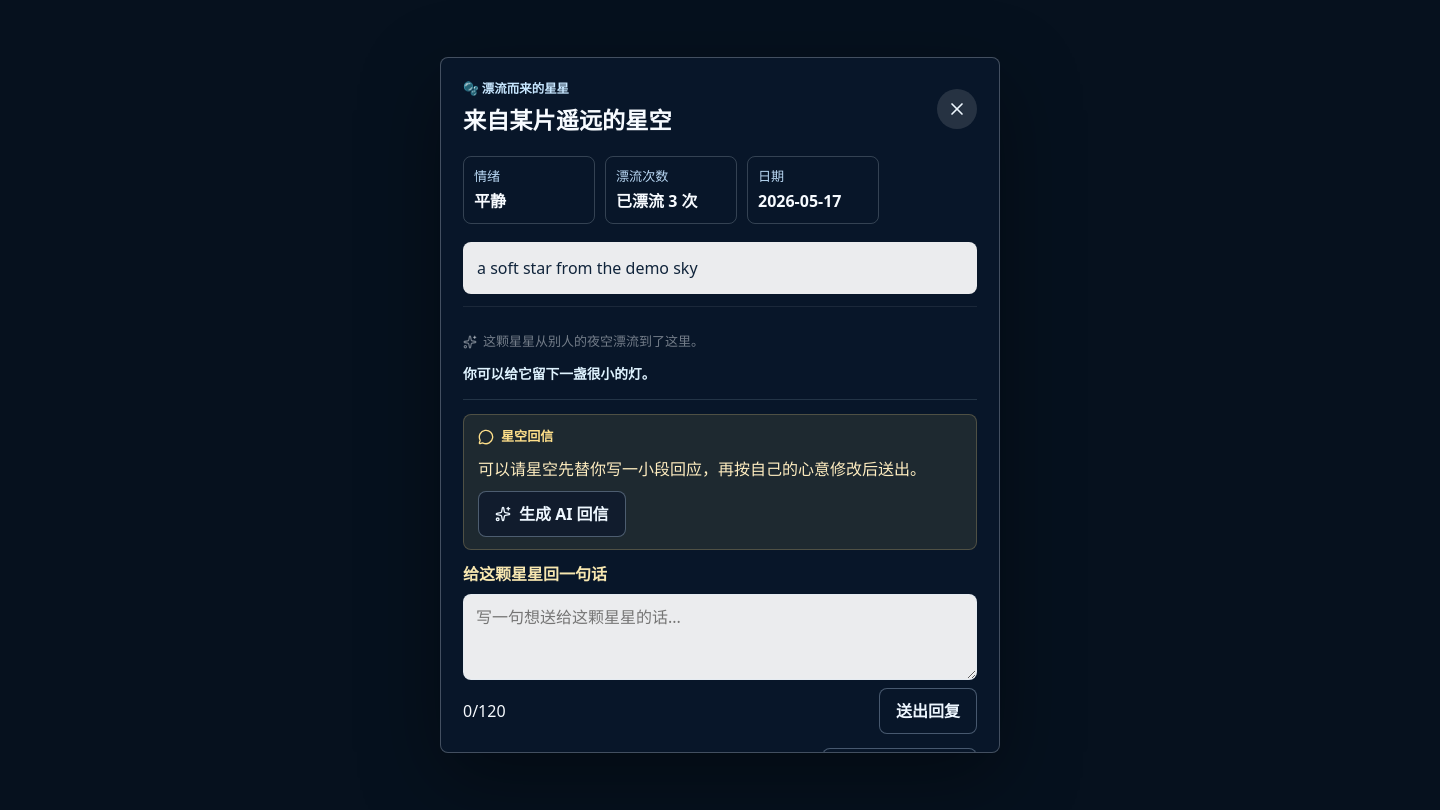
Test: drift star identity and replies › receivedDrift stars keep distant-source copy and allow local demo replies
The image size is (1440, 810).
Expected: the element with class "drift-source-receivedDrift" is shown, [463,332,704,350]
Expected: the text "你可以给它留下一盏很小的灯。" is shown, [463,364,656,383]
Type "May this little light keep you company." into the text box labelled "给这颗星星回一句话".
click(720, 637); type("May this little light keep you company.")  # box [463,594,977,680]
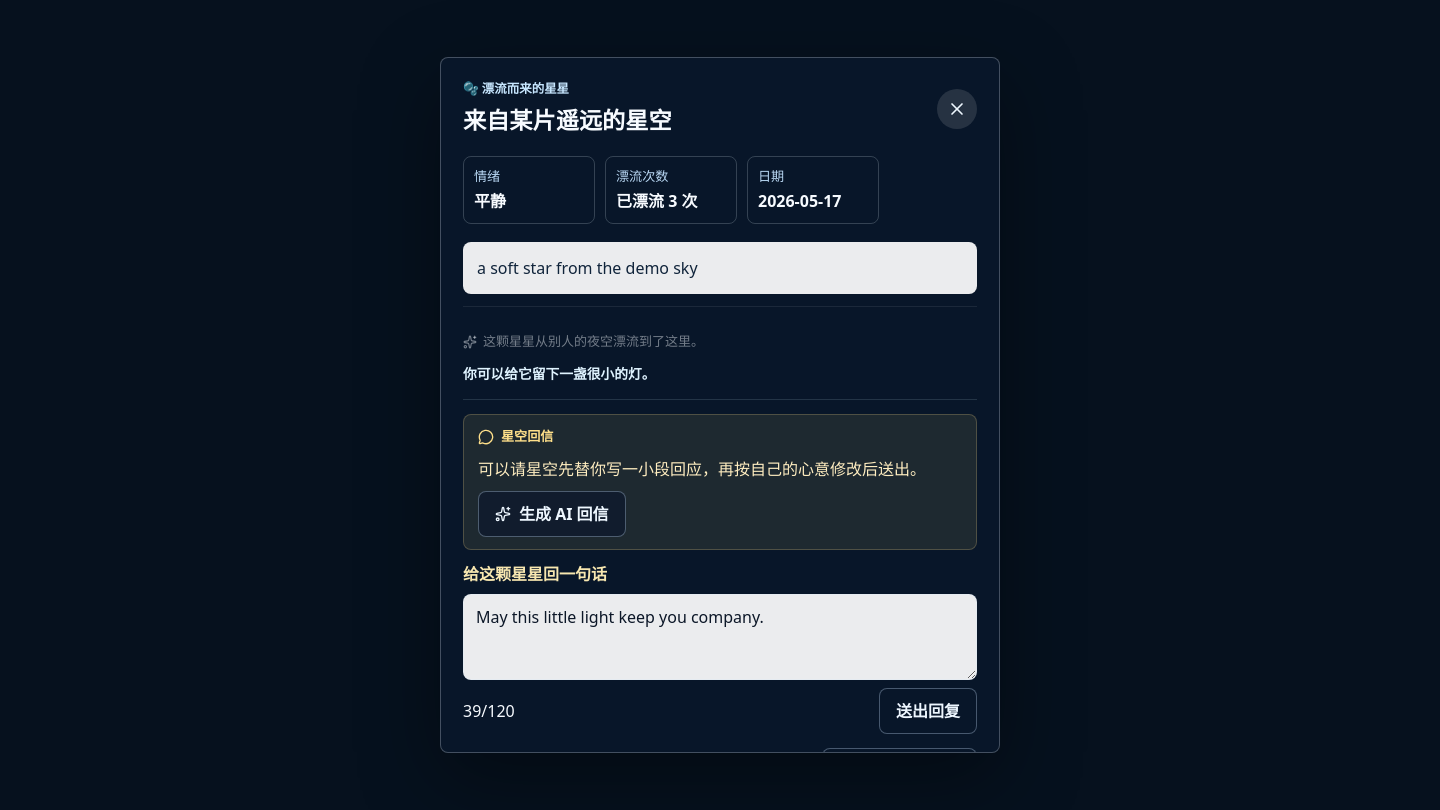
Click the button "送出回复".
click(928, 711)  # box [879,688,977,734]
(page scrolled)
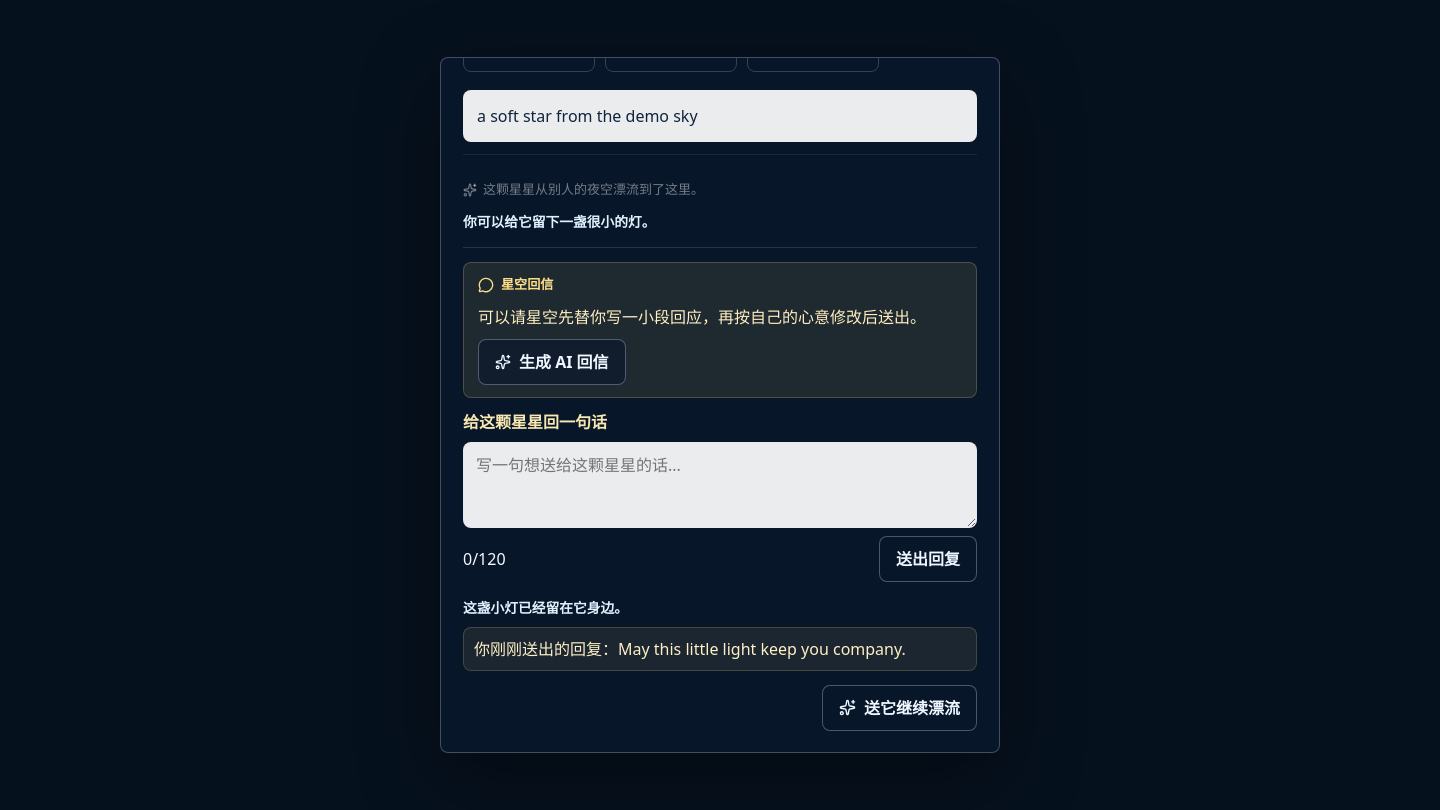
Expected: the text "这盏小灯已经留在它身边。" is shown, [463,598,628,617]
Expected: the text "你刚刚送出的回复：May this little light keep you company." is shown, [463,627,977,671]
